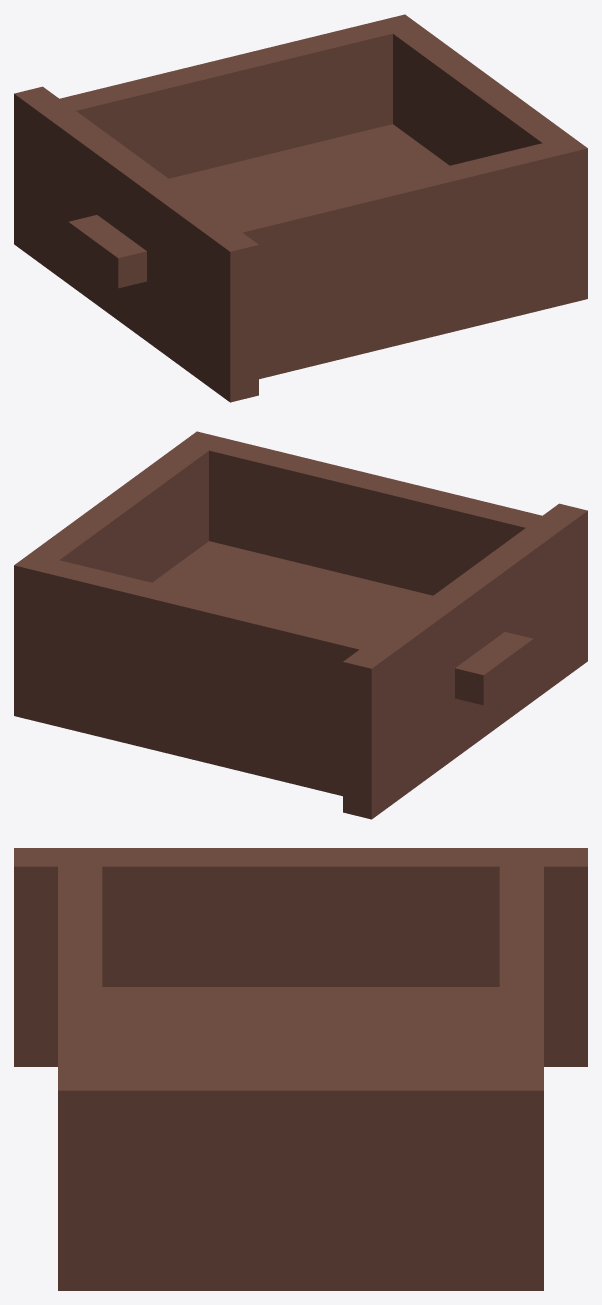
Rendered from gaveta1vox.glb.
3 views of the same model, one above another, from view 1: azimuth 30°, elevation 25°; view 2: azimuth 150°, elevation 25°; view 3: azimuth 270°, elevation 25° (orthographic). The views are drawn at different scales.
Bounding box in the file's own units: 1.4 × 0.5 × 1.3.
1 material, 1 textured.
